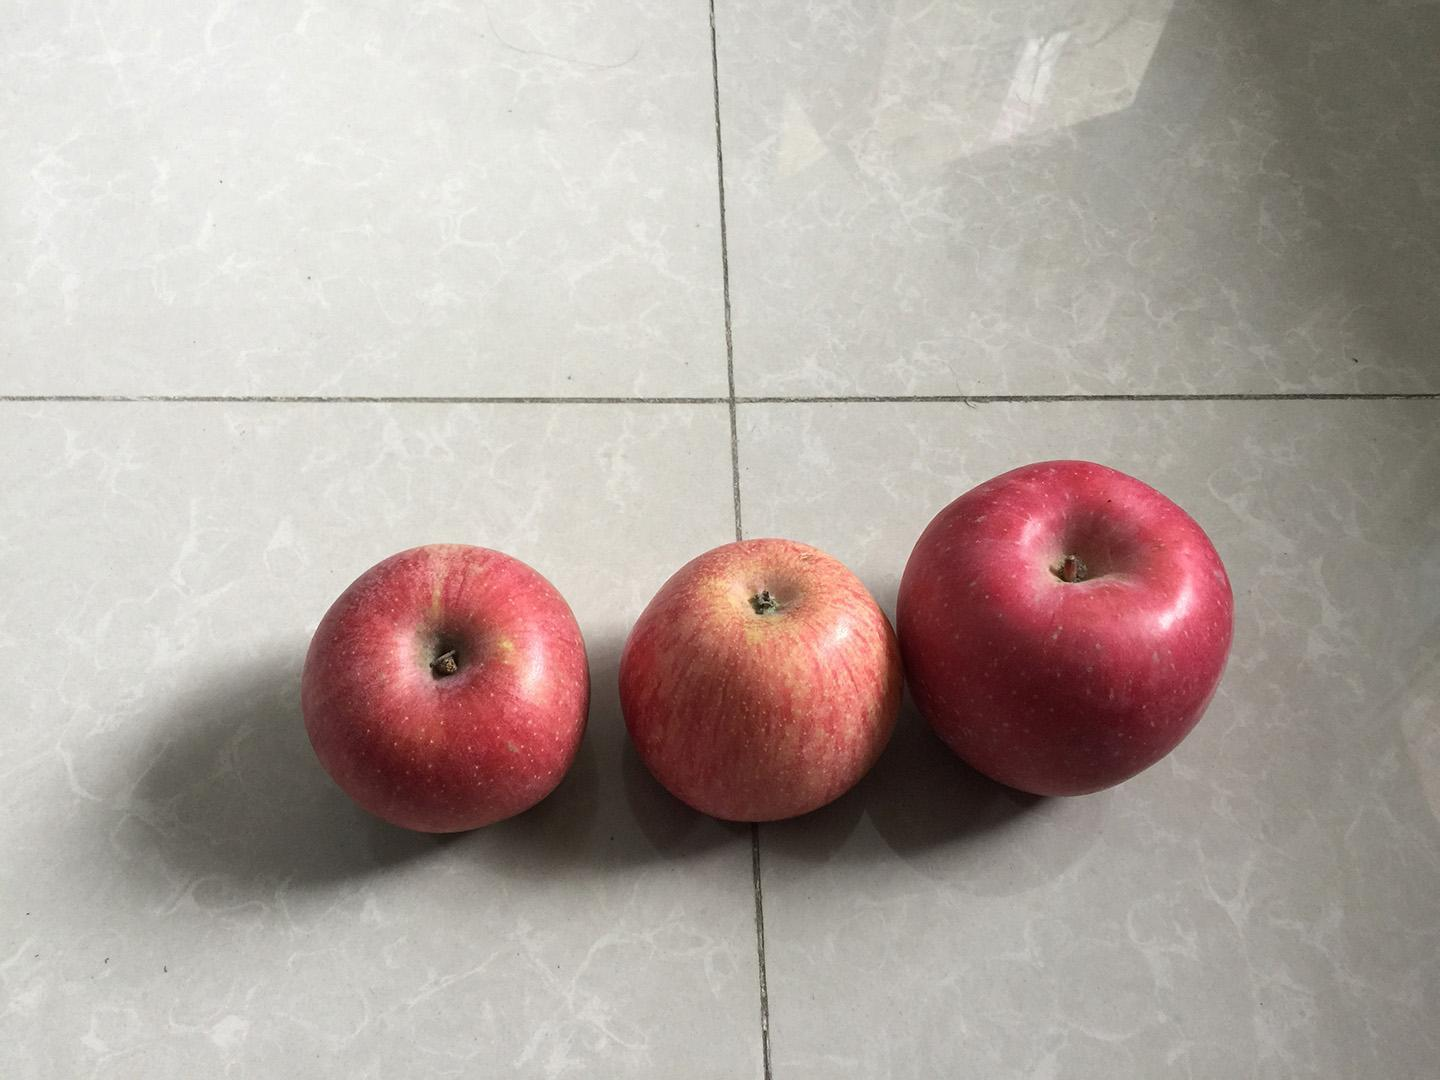apple: (888, 450, 1243, 805), (296, 538, 595, 841), (615, 529, 909, 832)
